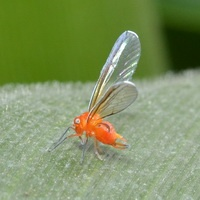insect: (48, 30, 140, 158)
